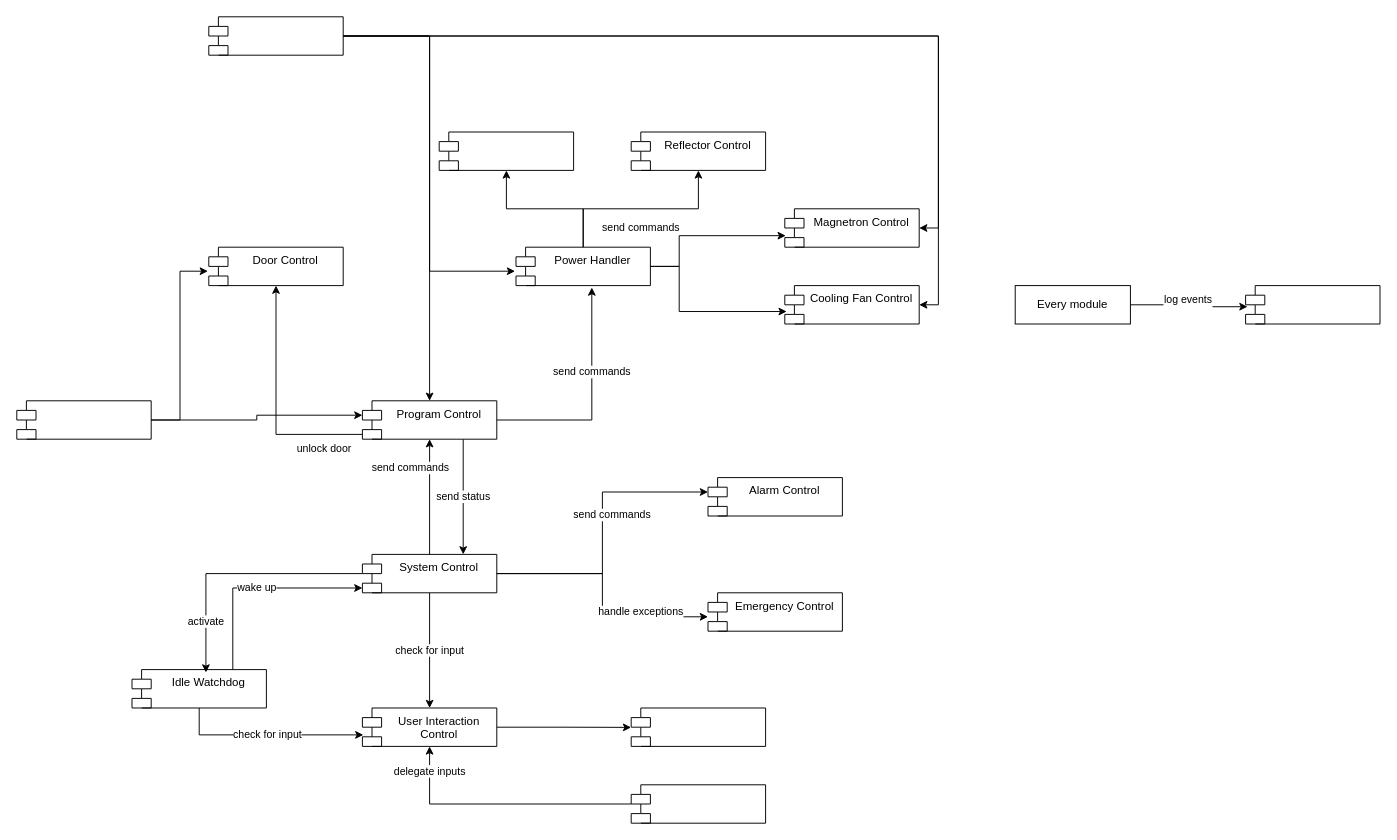
The diagram is 1397 pixels wide and 840 high, and some of its shapes have lost their labels. The centre of each missing label's shape, as x and y in pixels:
Display Handler: pixel 698 726
Input Detector: pixel 698 803
Light Control: pixel 83 419
Logging Handler: pixel 1312 304
Sensor Control: pixel 275 35
Turntable Control: pixel 506 150
